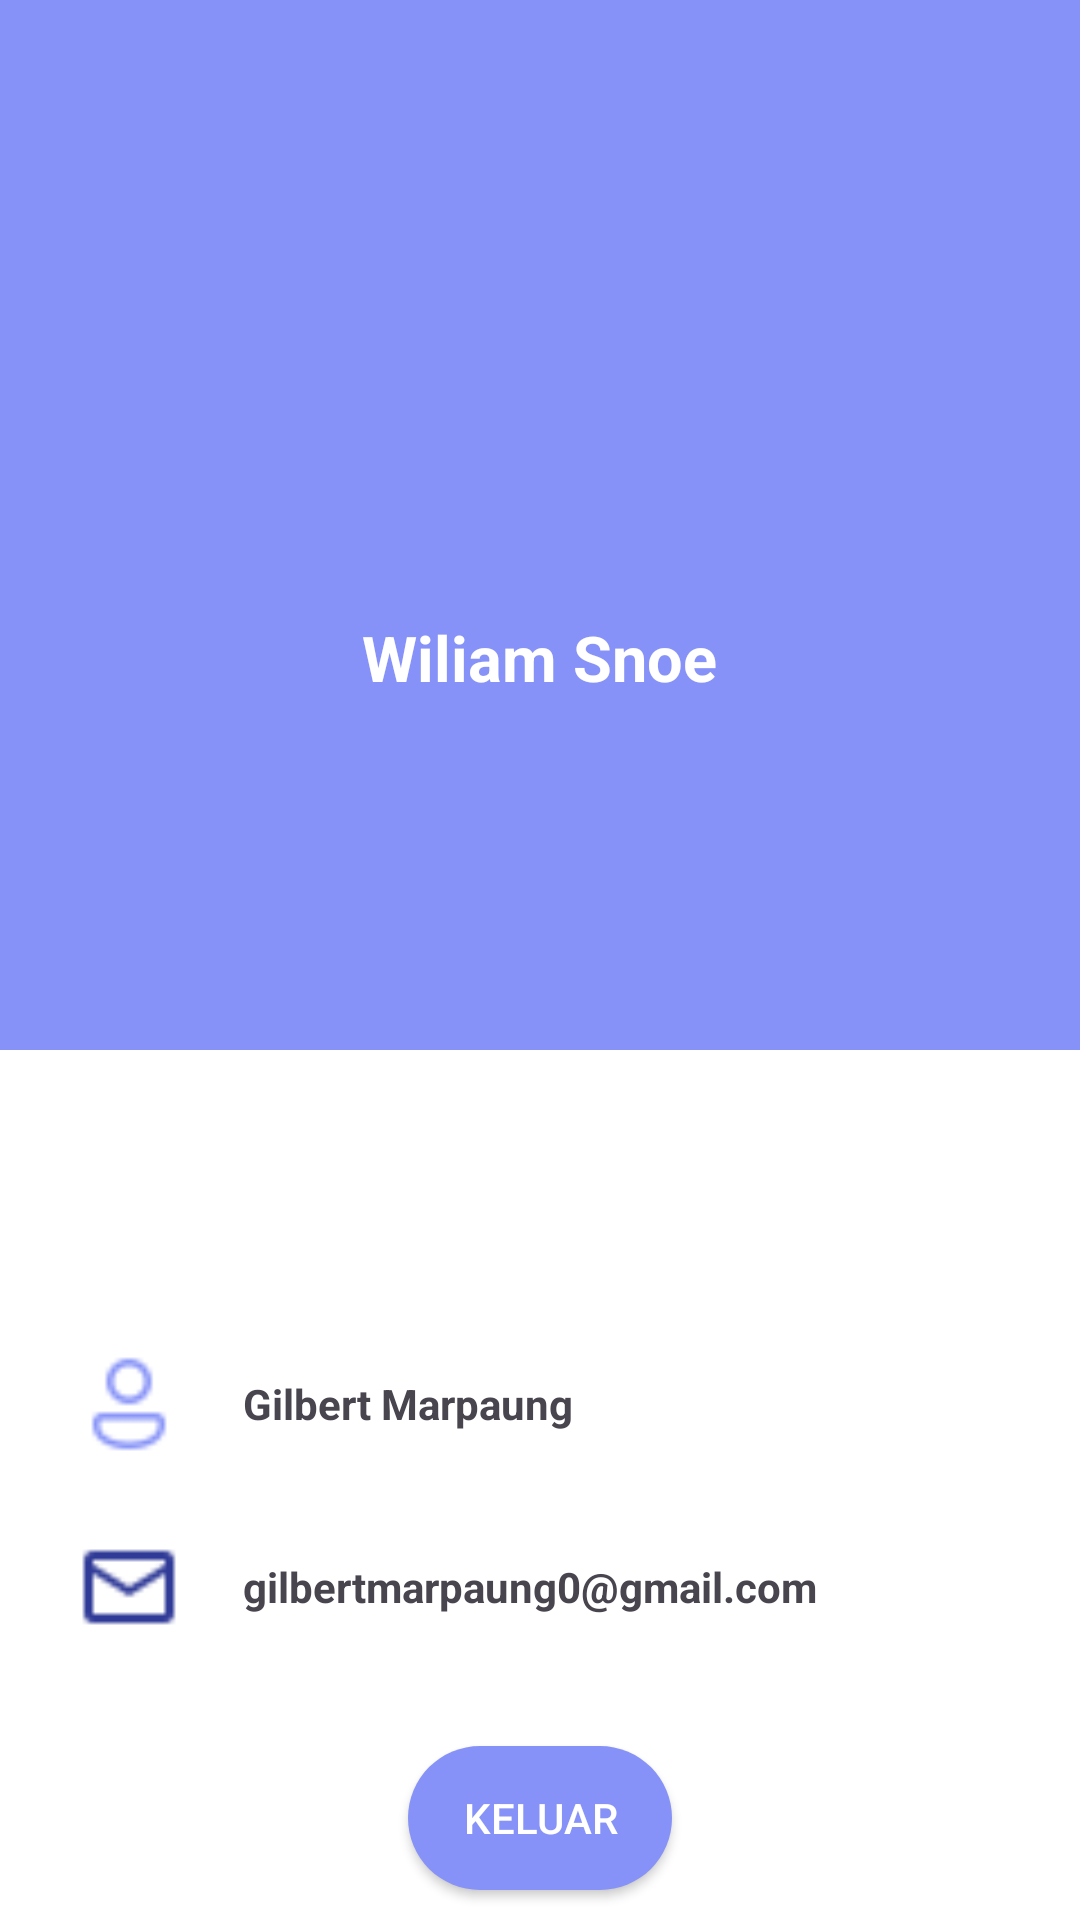

Icon click points for this 1080 × 1920 phone screenshot, format (x,y):
email: (129,1587)
user: (129,1404)
